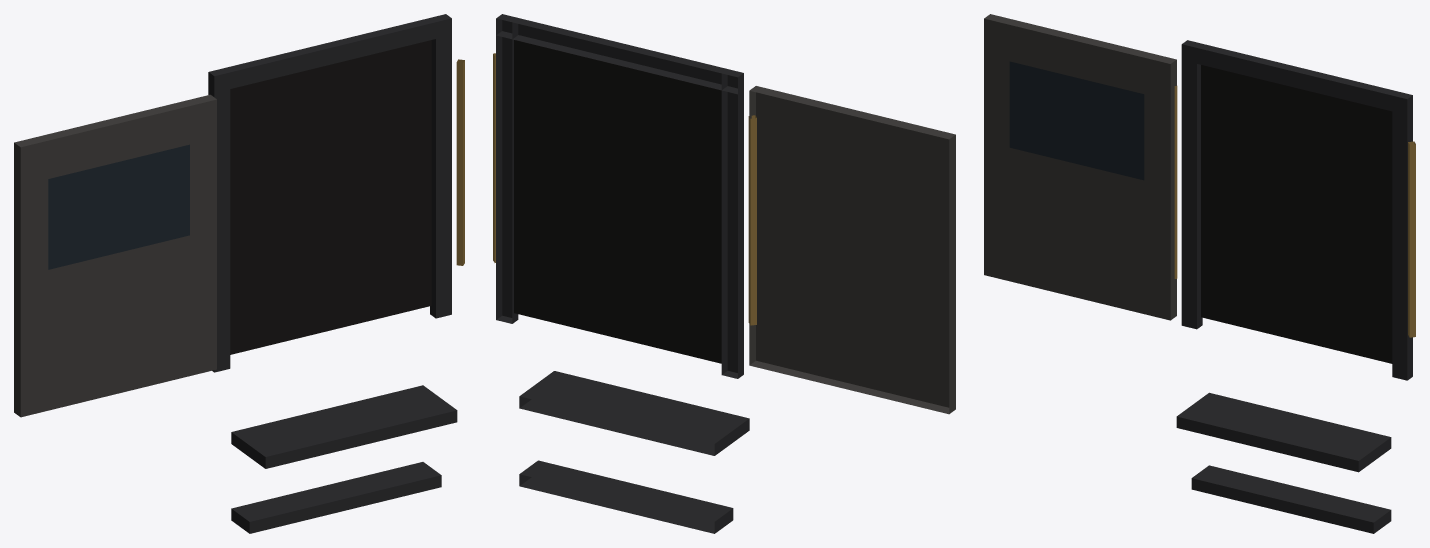
Rendered from door_open.glb.
3 renders of one model, left to right at view 1: azimuth 30°, elevation 25°; view 2: azimuth 150°, elevation 25°; view 3: azimuth 330°, elevation 25°, orthographic. The views are drawn at different scales.
Visible parts, largest first — view 1: door_open_LOD0; view 2: door_open_LOD0; view 3: door_open_LOD0.
Boxes of the visible parts, box(x1,y1,x2,y2) form: door_open_LOD0: box(14, 14, 464, 533); door_open_LOD0: box(493, 14, 955, 533); door_open_LOD0: box(984, 14, 1415, 533).
Size of what is drawn, in the model's own units: 1.97 by 1.9 by 0.26.
1 material, 1 textured.
